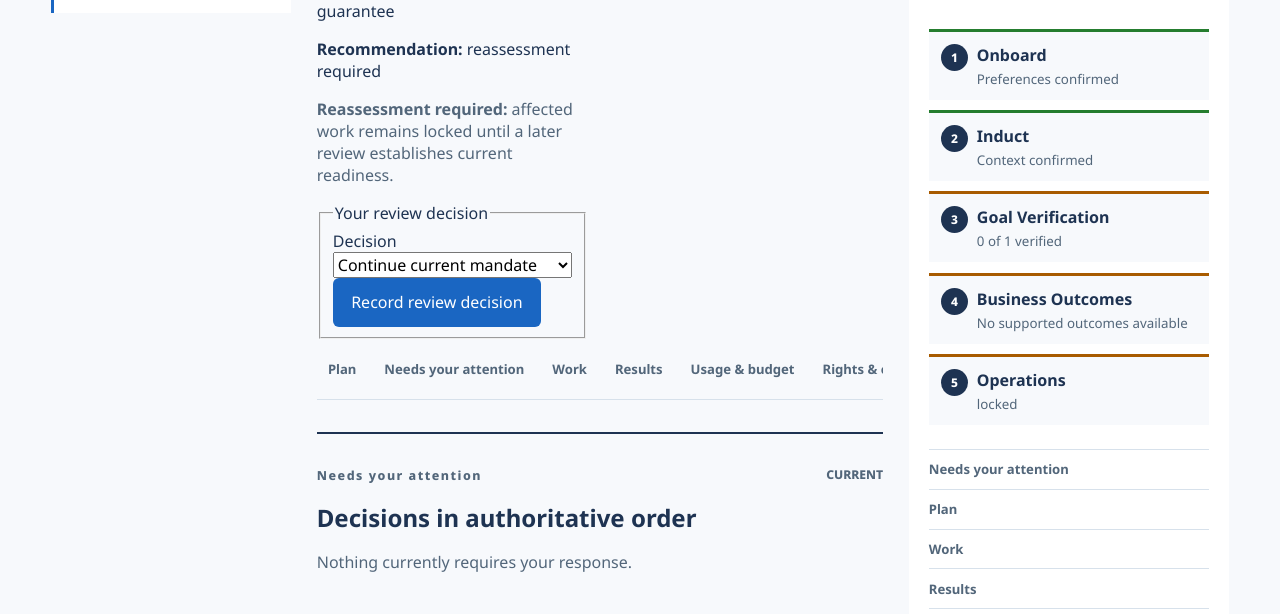
Scenario: RelationshipWorkspace › submits an exact-version customer review decision for only the current relationship
The image size is (1280, 614).
(page scrolled)
Select "Request reassessment" in the dropdown labelled "Decision" at (452, 265), box [333,252,572,278]
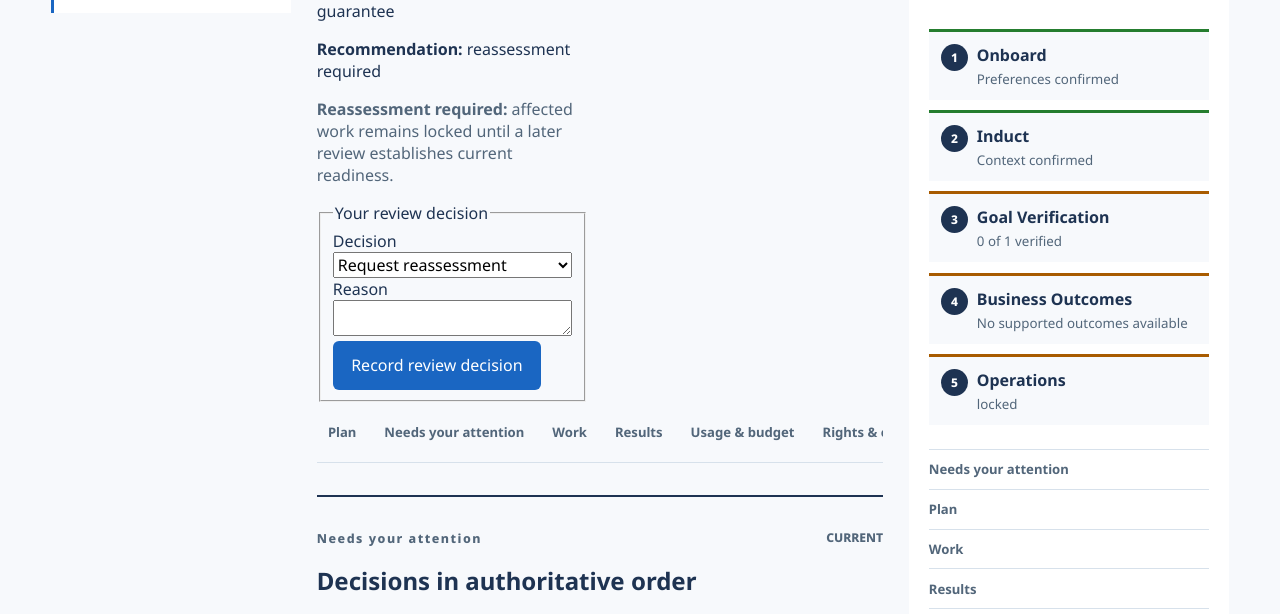
Type "Outcome requires a revised plan." into the text box labelled "Reason" at (452, 318), box [333,300,572,336]
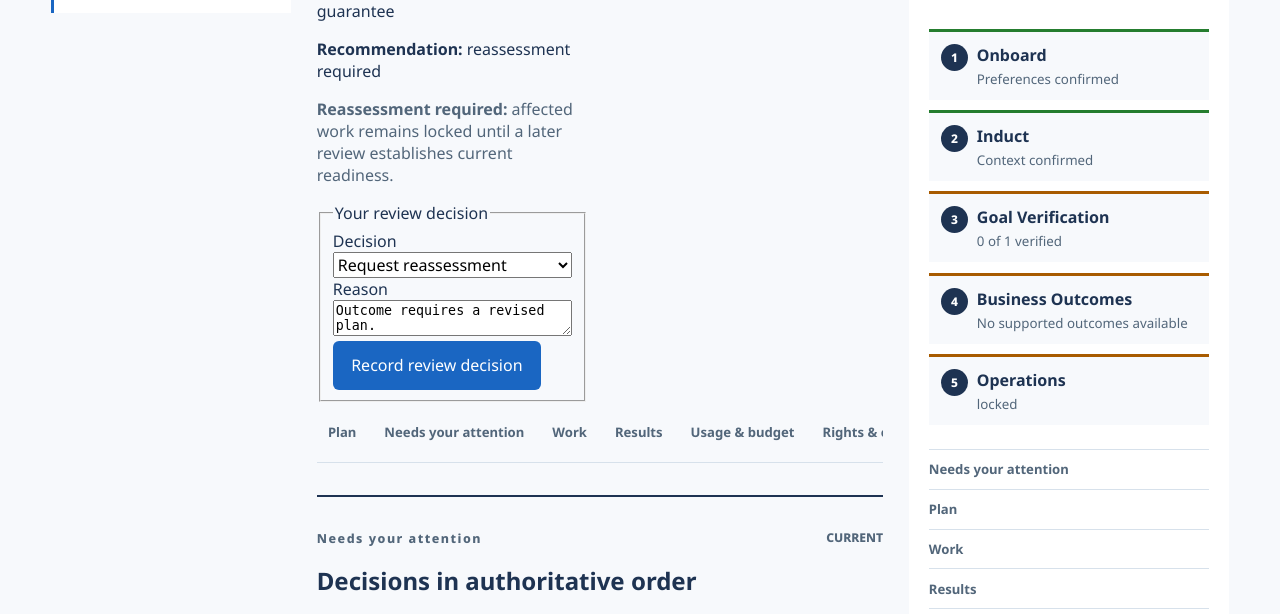
Click the button "Record review decision" at (437, 365), box [333,341,541,390]
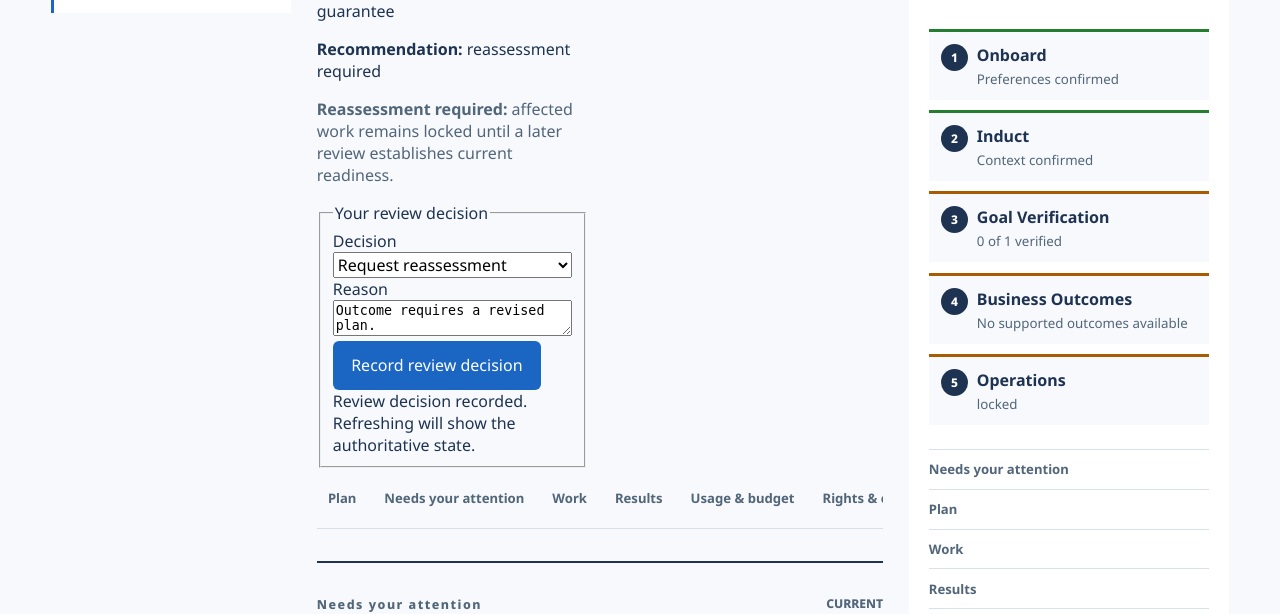
Now the text "Review decision recorded" is shown, box [333,390,527,456]
